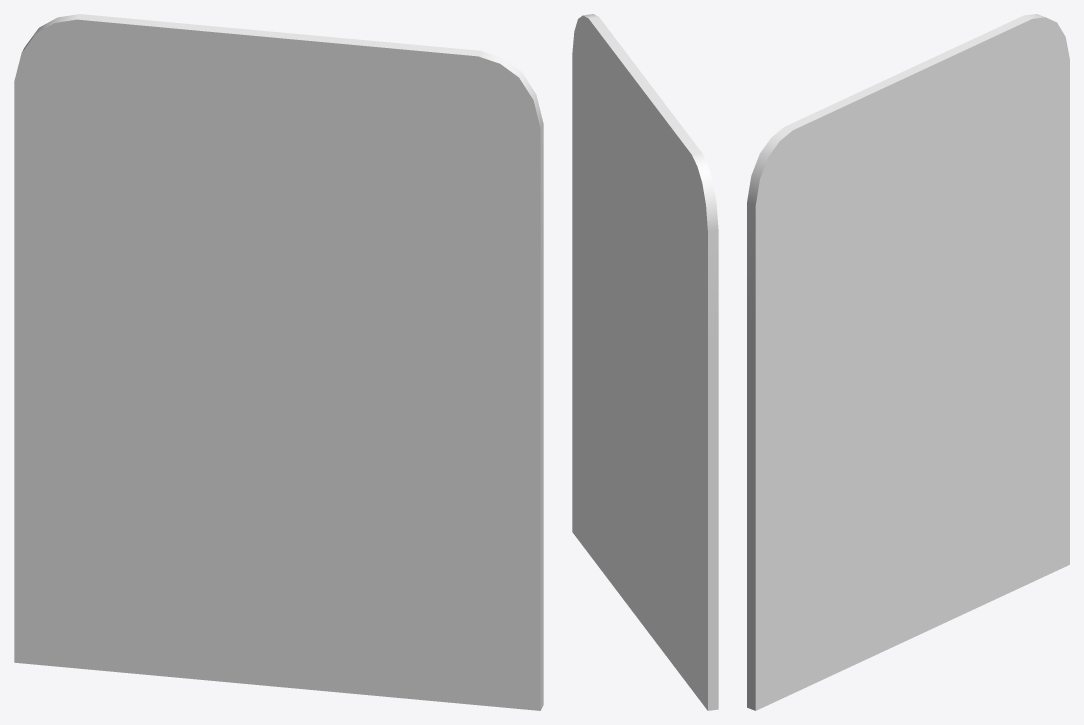
File: SM_079_Guardrail_06_1.fbx
3 views of the same model, side by side, from view 1: azimuth 30°, elevation 25°; view 2: azimuth 150°, elevation 25°; view 3: azimuth 270°, elevation 25° (orthographic). The views are drawn at different scales.
Parts seen in each view (by area): view 1: SM_079_Guardrail_06_1; view 2: SM_079_Guardrail_06_1; view 3: SM_079_Guardrail_06_1.
Boxes of the visible parts, bbox=[...] form: SM_079_Guardrail_06_1: bbox=[14, 14, 543, 710]; SM_079_Guardrail_06_1: bbox=[572, 14, 718, 710]; SM_079_Guardrail_06_1: bbox=[747, 14, 1069, 710].
Size of the model in its own units: 53.18 by 48.52 by 93.39.
1 material, 1 textured.
